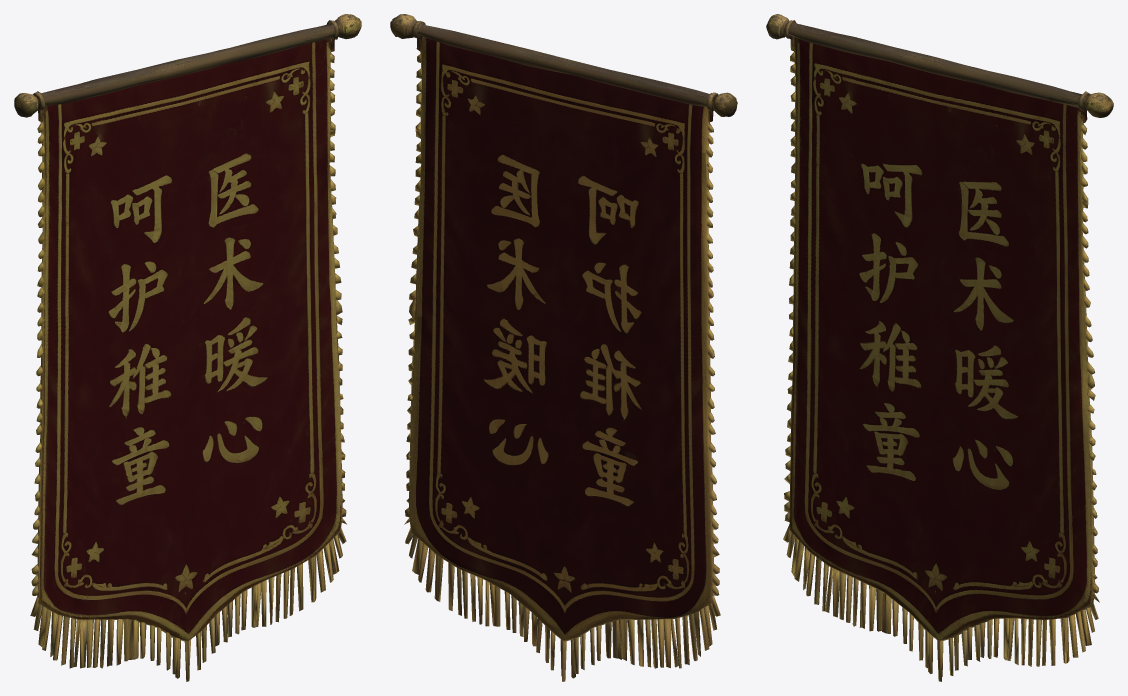
Rendered from honor_flag.fbx.
3 views of the same model, side by side, from view 1: azimuth 30°, elevation 25°; view 2: azimuth 150°, elevation 25°; view 3: azimuth 330°, elevation 25° (orthographic).
Parts seen in each view (by area): view 1: mesh_node; view 2: mesh_node; view 3: mesh_node.
Boxes of the visible parts, box(x1,y1,x2,y2) form: mesh_node: box(14, 14, 361, 681); mesh_node: box(390, 14, 737, 681); mesh_node: box(766, 14, 1113, 681).
Size of the model in its own units: 57.42 by 100 by 3.82.
Materials: 1 (1 with a texture image).
